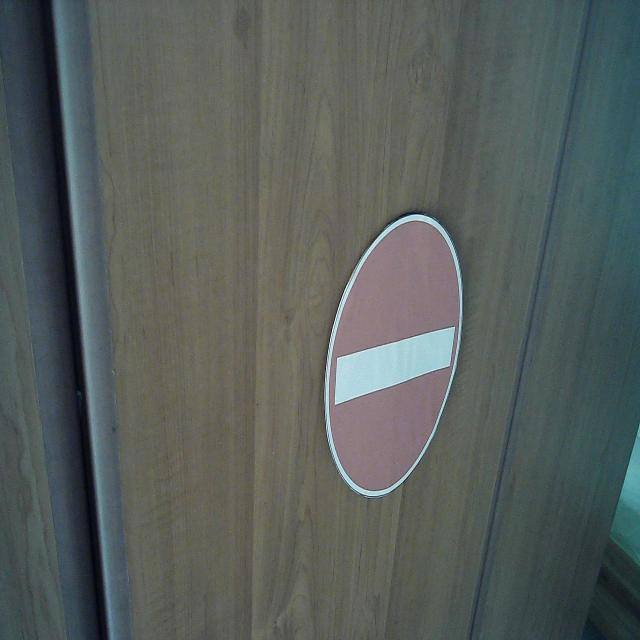no_entry: (322, 210, 464, 498)
